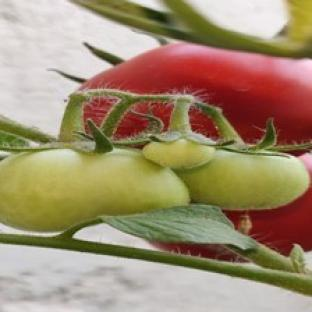Tomato: (80, 44, 311, 143), (0, 150, 189, 231), (176, 151, 310, 210), (248, 187, 311, 254), (143, 138, 214, 168)
